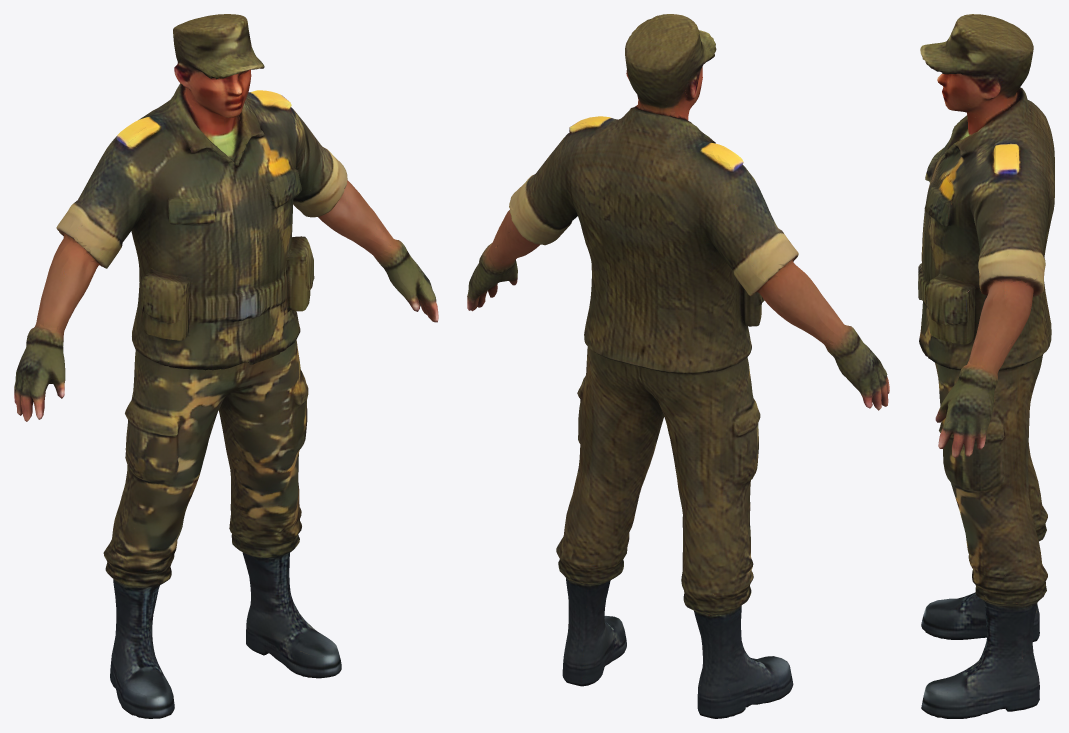
The model's file is 3d-african-male-soldier-in-camouflage-uniform.glb.
3 views of the same model, side by side, from view 1: azimuth 30°, elevation 25°; view 2: azimuth 150°, elevation 25°; view 3: azimuth 270°, elevation 25° (orthographic).
Parts seen in each view (by area): view 1: Mesh; view 2: Mesh; view 3: Mesh.
Part boxes in pixels (x1,y1,x2,y2): Mesh: (14, 14, 438, 718); Mesh: (467, 14, 889, 718); Mesh: (918, 14, 1054, 718).
Size of the model in its own units: 1.25 by 1.91 by 0.3651.
1 material, 1 textured.
